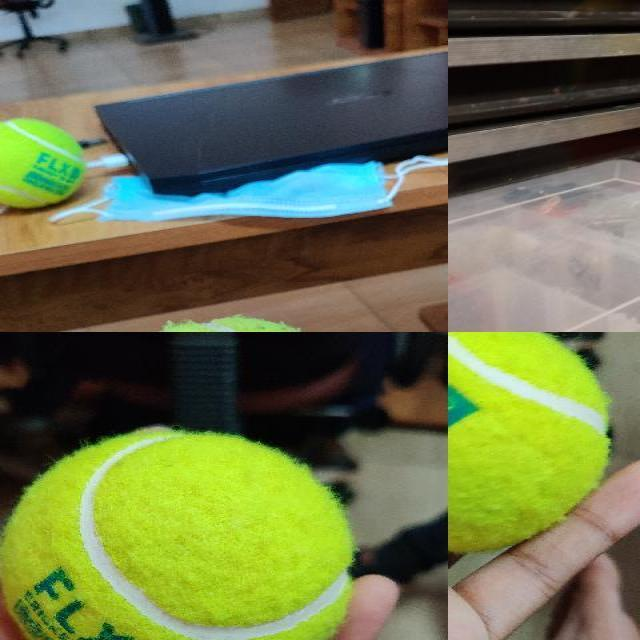tennis-ball: (0, 432, 353, 639), (448, 332, 608, 553), (0, 118, 85, 208)
